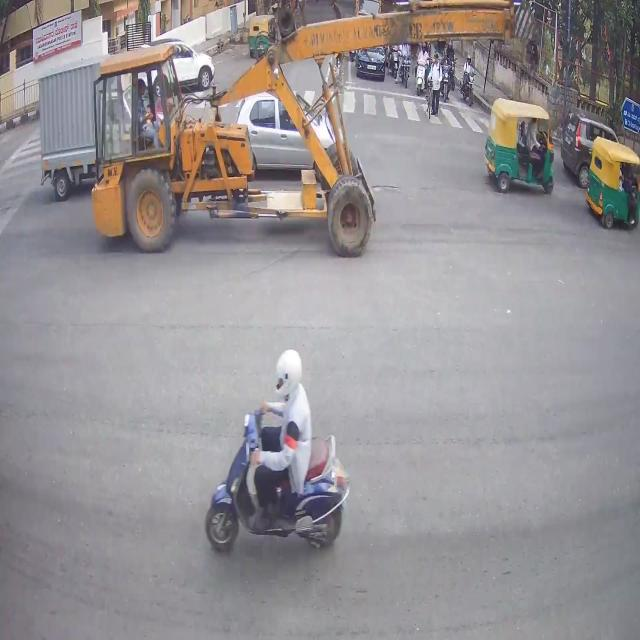Car: (564, 102, 621, 179), (361, 24, 389, 84)
LCV: (103, 61, 369, 253), (38, 58, 148, 178)
Three-wheeler: (488, 95, 552, 197), (591, 138, 640, 225), (247, 11, 280, 54)
Two-wheelers: (222, 392, 336, 550), (417, 44, 434, 96), (397, 35, 414, 86), (432, 64, 446, 124), (462, 59, 478, 108)
